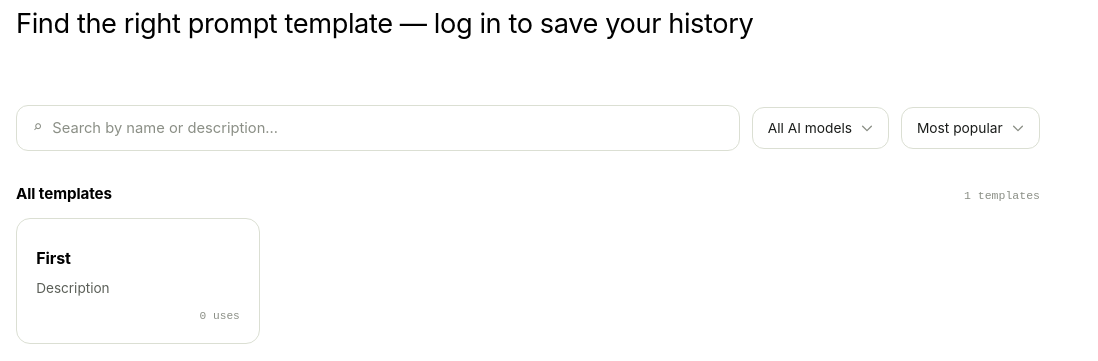
Test case: CatalogPage › re-fetches sorted by newest and resets pagination when the sort control changes
The width and height of the screenshot is (1098, 361).
Expected: the heading "First" is shown, [36,248,71,268]
Click the button with aria-label "Sort by" at {"x": 971, "y": 128}, box [902,107,1040,149]
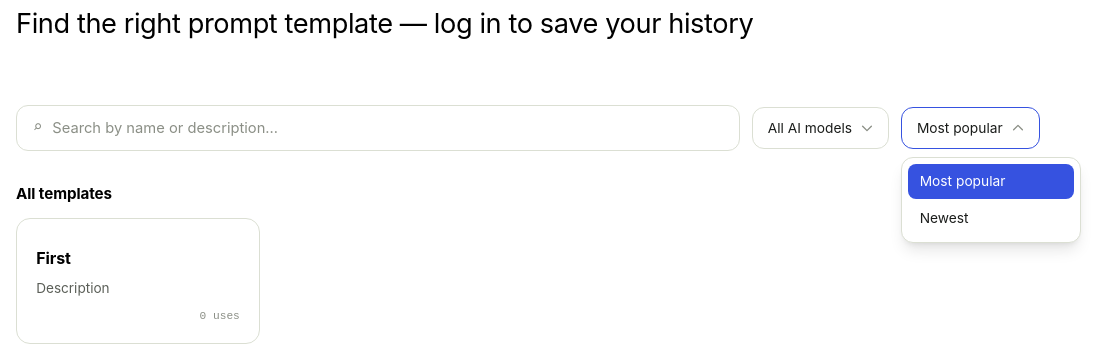
Click the option "Newest" at {"x": 992, "y": 219}, box [908,201,1074,236]
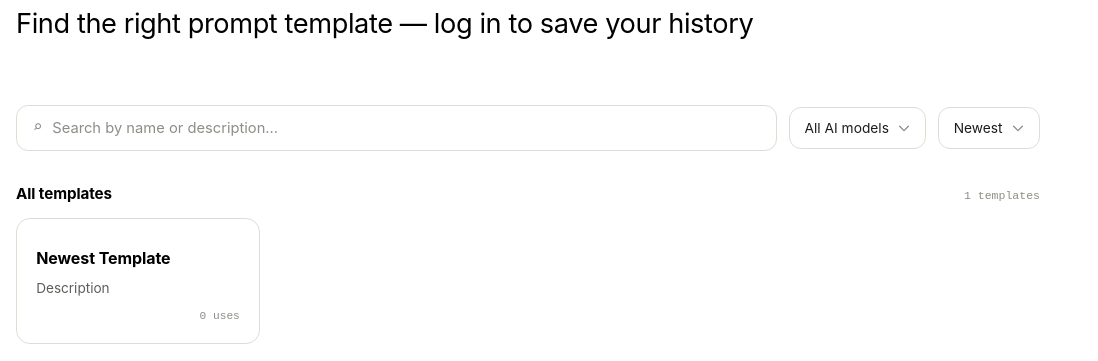
Expected: the heading "Newest Template" is shown, [36,248,170,268]
